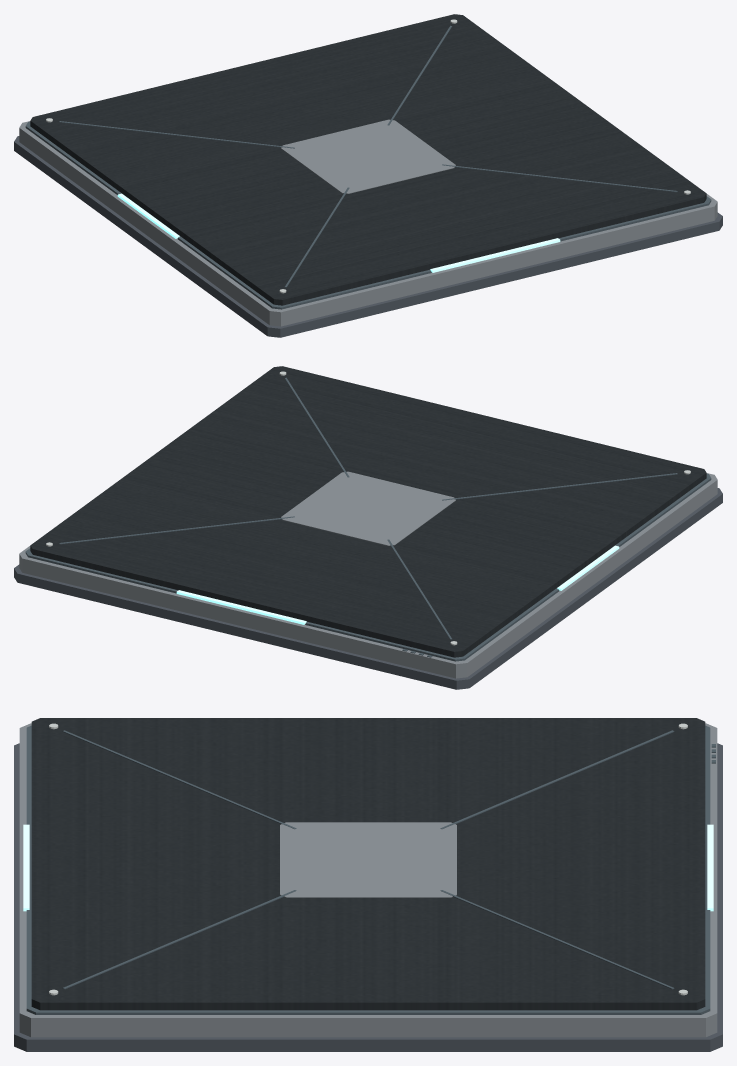
Rendered from m03-metal-full.glb.
The picture shows the model from 3 angles, top to bottom: view 1: azimuth 30°, elevation 25°; view 2: azimuth 150°, elevation 25°; view 3: azimuth 270°, elevation 25°; orthographic projection. The views are drawn at different scales.
Parts seen in each view (by area): view 1: full/003, full/001, full/000, full/004, full/002, full/014; view 2: full/003, full/001, full/000, full/004, full/002, full/013; view 3: full/003, full/001, full/000, full/004, full/002, full/007, full/008, full/005, full/006, full/013, full/014.
Boxes of the visible parts, box(x1,y1,x2,y2) form: full/003: box(30, 14, 706, 305); full/001: box(19, 121, 717, 326); full/000: box(14, 136, 722, 337); full/004: box(281, 119, 455, 193); full/002: box(25, 121, 711, 309); full/014: box(430, 238, 560, 272); full/003: box(30, 366, 706, 657); full/001: box(19, 473, 717, 678); full/000: box(14, 488, 722, 689); full/004: box(281, 471, 455, 545); full/002: box(25, 473, 711, 661); full/013: box(176, 590, 306, 624); full/003: box(31, 718, 705, 1010); full/001: box(19, 723, 717, 1037); full/000: box(14, 743, 722, 1051); full/004: box(280, 822, 456, 897); full/002: box(26, 725, 710, 1014); full/007: box(440, 890, 674, 989); full/008: box(62, 890, 296, 989); full/005: box(440, 730, 674, 829); full/006: box(62, 730, 296, 829); full/013: box(707, 824, 713, 911); full/014: box(23, 824, 29, 911).
Size of the model in its own units: 1 by 0.0678 by 1.
Materials: 6 (1 with a texture image).
